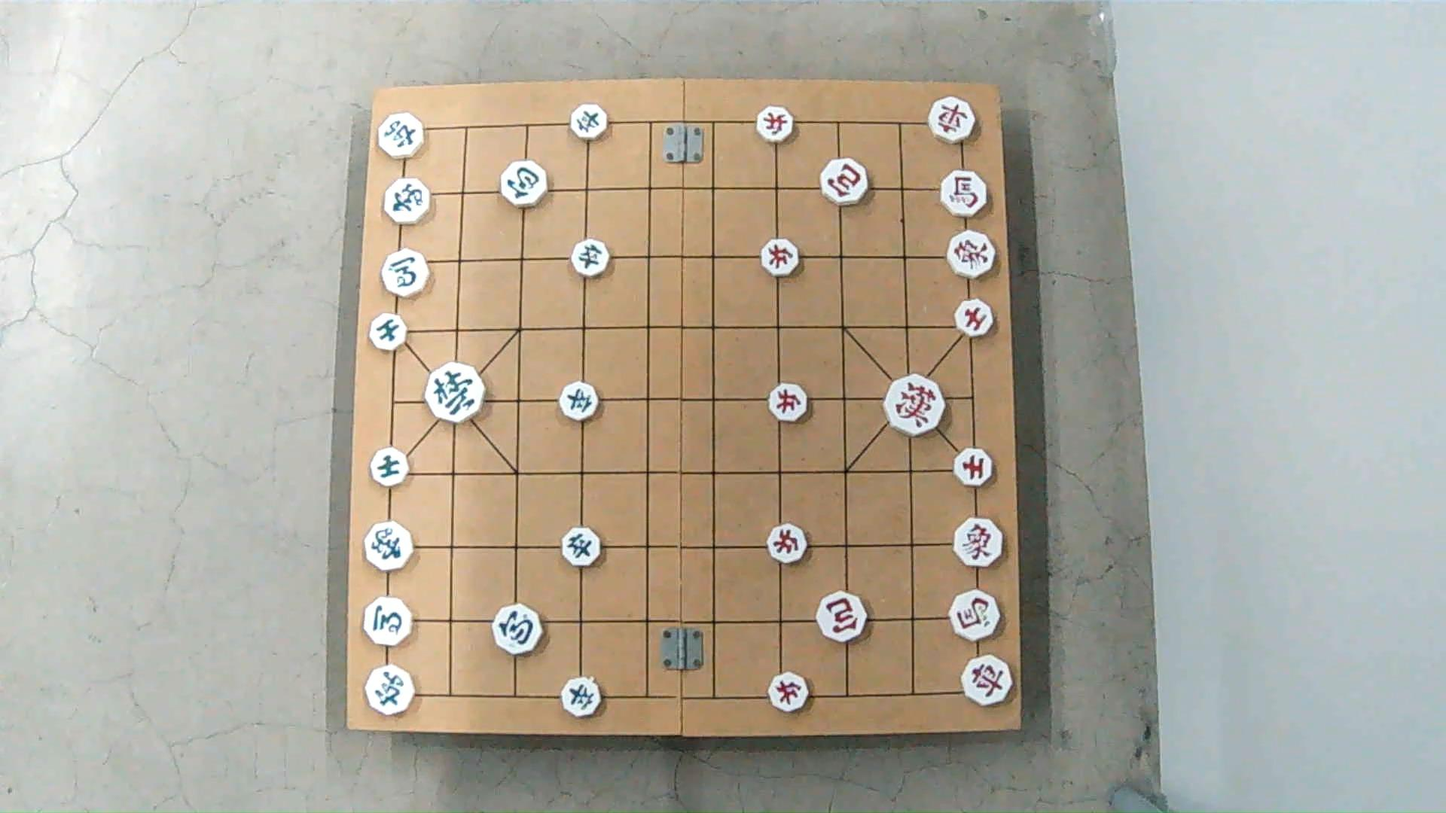cha_green: (366, 667, 417, 714), (376, 116, 426, 159)
cha_red: (960, 658, 1017, 704), (927, 101, 978, 143)
jol_green: (560, 679, 605, 716), (566, 104, 613, 139), (559, 530, 602, 566), (558, 385, 600, 421), (574, 244, 616, 278)
jol_red: (760, 236, 803, 277), (755, 105, 801, 139), (770, 674, 813, 710), (769, 387, 813, 422), (765, 527, 809, 562)
ma_green: (380, 249, 435, 295), (362, 600, 415, 647)
ma_red: (946, 588, 1005, 644), (941, 169, 989, 216)
po_green: (492, 603, 545, 653), (499, 161, 551, 206)
po_red: (816, 592, 871, 642), (823, 162, 873, 204)
sa_green: (369, 450, 410, 485), (367, 315, 409, 349)
sa_red: (951, 446, 992, 486), (954, 300, 997, 333)
sang_green: (382, 176, 432, 224), (364, 524, 415, 569)
sang_red: (953, 521, 1008, 567), (946, 233, 997, 280)
wang_green: (423, 361, 487, 422)
wang_red: (881, 373, 950, 434)
